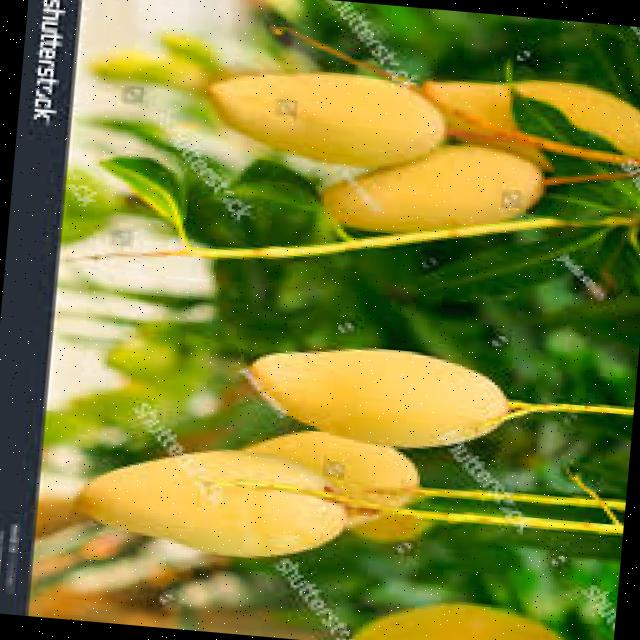mango: (241, 350, 523, 448)
